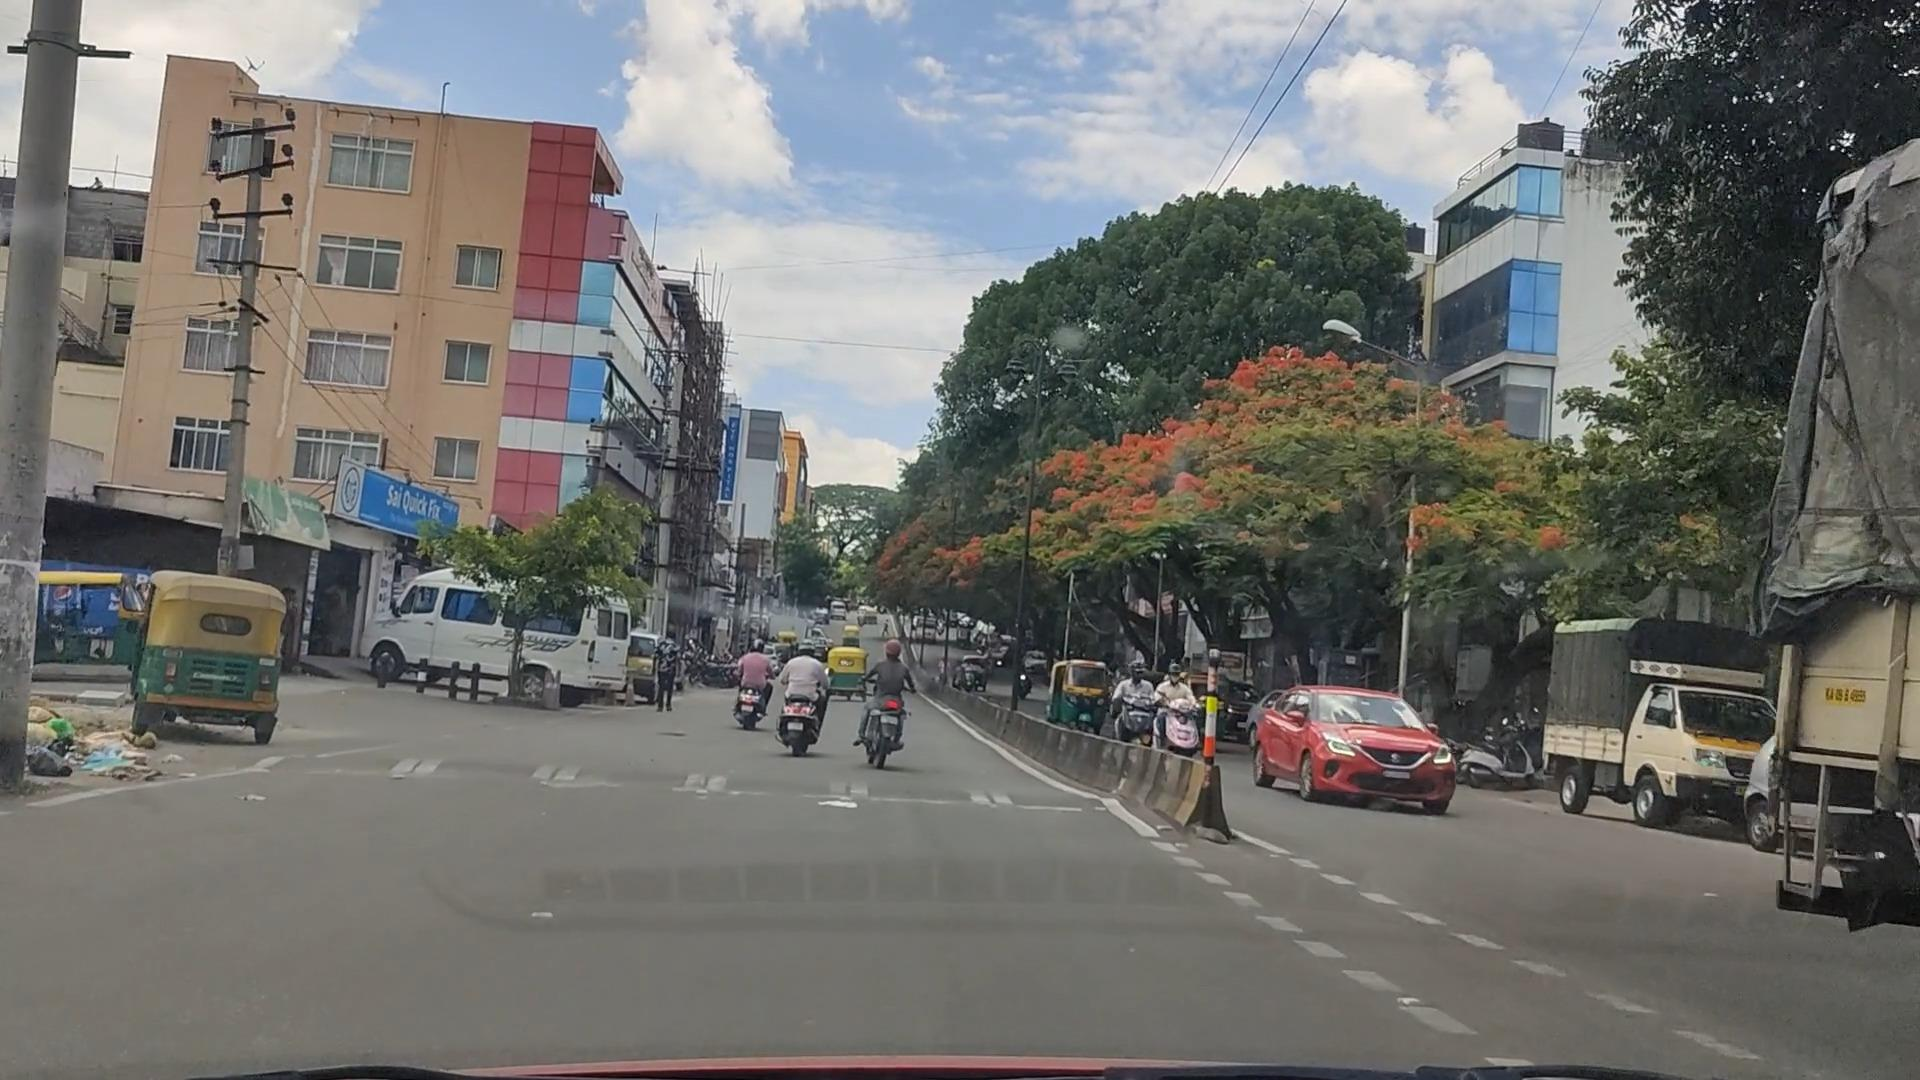SpeedBump: (256, 738, 1108, 819)
